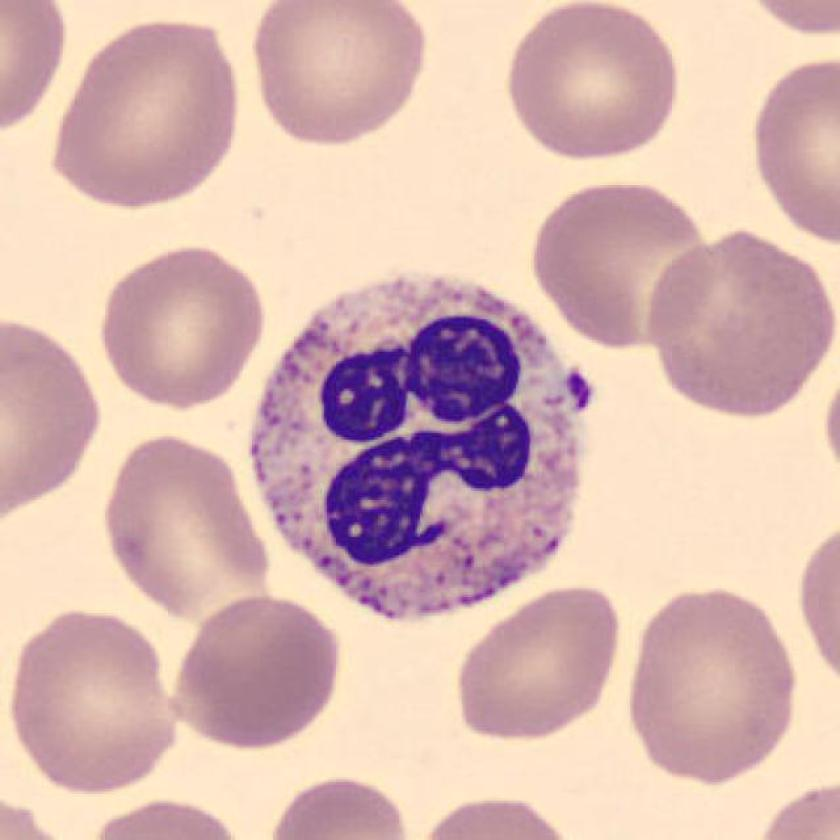neutrophil: (252, 278, 579, 620)
